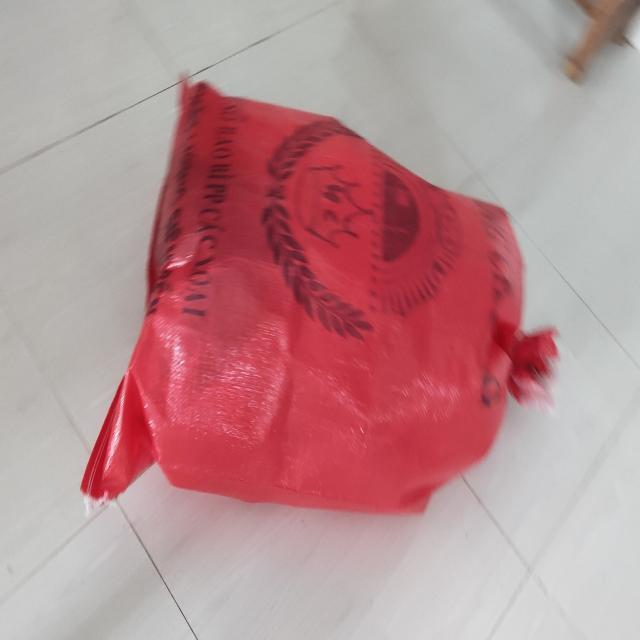gunny_bag: (82, 81, 559, 513)
